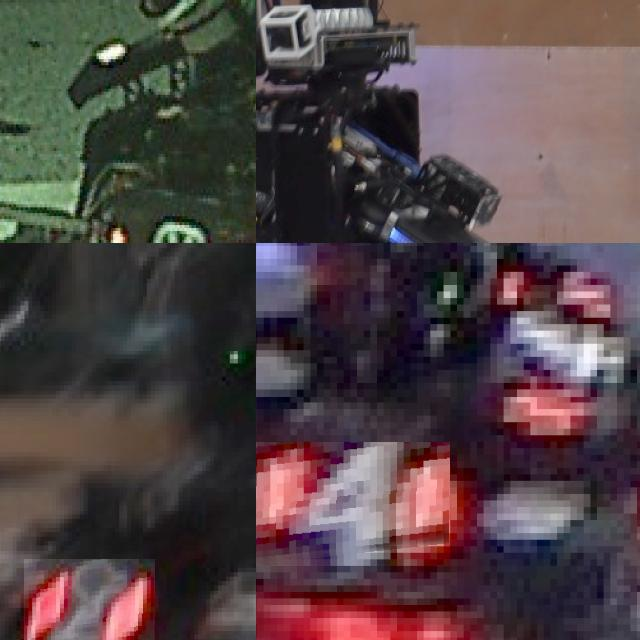R4: (256, 442, 450, 566)
Rs: (24, 558, 154, 640)
